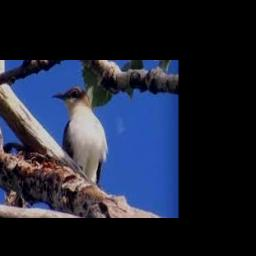Cuckoo: (50, 87, 108, 185)
